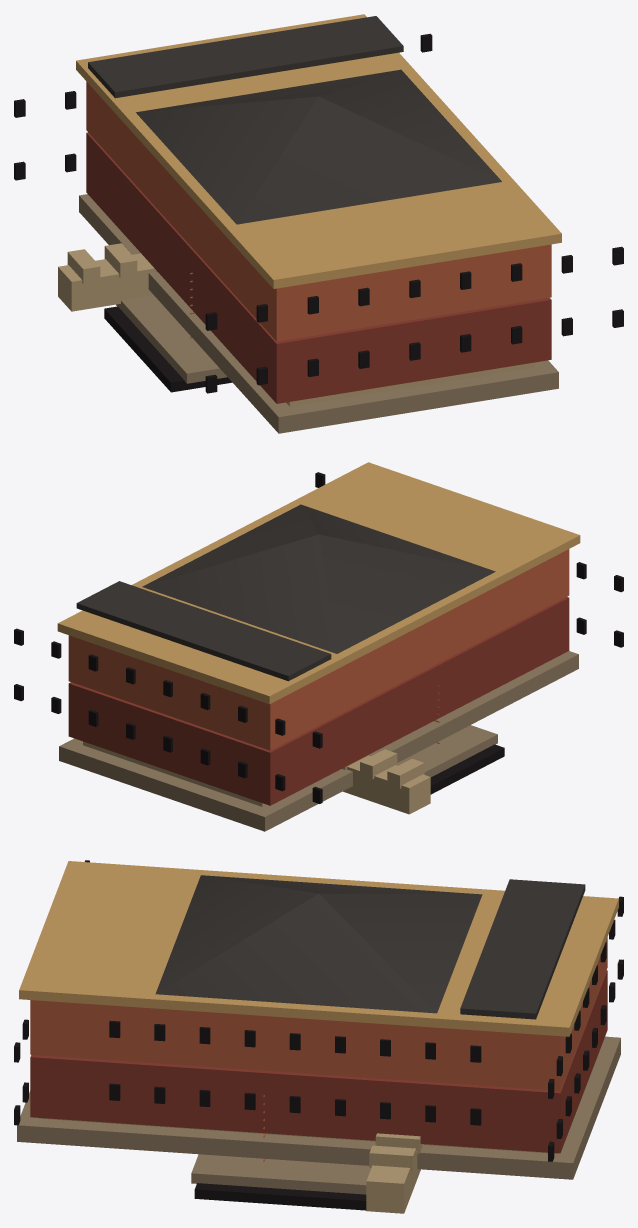
The picture shows the model from 3 angles, top to bottom: view 1: azimuth 30°, elevation 25°; view 2: azimuth 150°, elevation 25°; view 3: azimuth 270°, elevation 25°; orthographic projection. The views are drawn at different scales.
Visible parts, largest first — view 1: TownEast_SingleHipRoof, TownEast_Eave_Band, TownEast_LowerStory, TownEast_UpperStory, TownEast_12m_CityPlatform, TownEast_Roof_Ridge, CityWall_Platform, Eastern_Approach_Wall, CityWall_ShadowBase, TownEast_Platform_Coping, Approach_Crenel_-5.85, Approach_Crenel_-7.2; view 2: TownEast_LowerStory, TownEast_SingleHipRoof, TownEast_Eave_Band, TownEast_UpperStory, TownEast_12m_CityPlatform, TownEast_Roof_Ridge, Eastern_Approach_Wall, CityWall_Platform, CityWall_ShadowBase, TownEast_Platform_Coping, Approach_Crenel_-7.2, Approach_Crenel_-5.85; view 3: TownEast_Eave_Band, TownEast_SingleHipRoof, TownEast_LowerStory, TownEast_UpperStory, TownEast_12m_CityPlatform, TownEast_Roof_Ridge, CityWall_Platform, CityWall_ShadowBase, Eastern_Approach_Wall, Approach_Crenel_6.300000000000001, Approach_Crenel_4.950000000000001, TownEast_Platform_Coping.
Boxes of the visible parts, x1,y1,x2,y2 form: TownEast_SingleHipRoof: (136, 69, 501, 224); TownEast_Eave_Band: (76, 14, 561, 288); TownEast_LowerStory: (86, 132, 551, 403); TownEast_UpperStory: (86, 81, 551, 341); TownEast_12m_CityPlatform: (79, 194, 558, 433); TownEast_Roof_Ridge: (88, 16, 403, 98); CityWall_Platform: (116, 295, 227, 383); Eastern_Approach_Wall: (58, 253, 156, 311); CityWall_ShadowBase: (104, 306, 232, 392); TownEast_Platform_Coping: (286, 362, 534, 406); Approach_Crenel_-5.85: (104, 243, 137, 278); Approach_Crenel_-7.2: (67, 249, 100, 283); TownEast_LowerStory: (68, 597, 569, 805); TownEast_SingleHipRoof: (142, 504, 495, 653); TownEast_Eave_Band: (57, 462, 580, 704); TownEast_UpperStory: (68, 549, 569, 750); TownEast_12m_CityPlatform: (59, 651, 578, 831); TownEast_Roof_Ridge: (76, 581, 331, 681); Eastern_Approach_Wall: (343, 755, 430, 814); CityWall_Platform: (397, 725, 497, 777); CityWall_ShadowBase: (430, 744, 504, 794); TownEast_Platform_Coping: (83, 741, 266, 806); Approach_Crenel_-7.2: (387, 758, 424, 788); Approach_Crenel_-5.85: (360, 749, 397, 779); TownEast_Eave_Band: (19, 861, 618, 1036); TownEast_SingleHipRoof: (155, 875, 482, 1013); TownEast_LowerStory: (30, 970, 607, 1153); TownEast_UpperStory: (30, 937, 607, 1090); TownEast_12m_CityPlatform: (17, 1036, 620, 1179); TownEast_Roof_Ridge: (460, 879, 585, 1019); CityWall_Platform: (191, 1154, 370, 1194); CityWall_ShadowBase: (194, 1183, 366, 1210); Eastern_Approach_Wall: (366, 1151, 420, 1213); Approach_Crenel_6.300000000000001: (369, 1145, 415, 1170); Approach_Crenel_4.950000000000001: (375, 1133, 422, 1154); TownEast_Platform_Coping: (39, 1118, 557, 1153).
Bounding box in the file's own units: 17.91 × 8.62 × 20.68.
